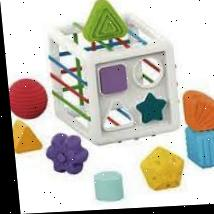cube: (46, 22, 179, 144)
